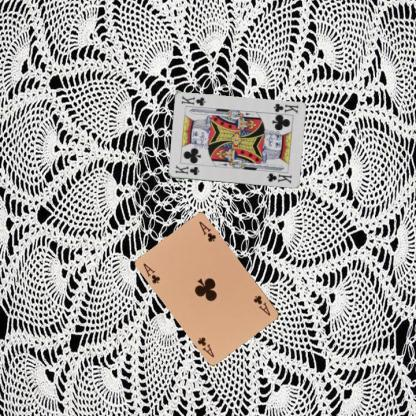Ac: (141, 260, 162, 286), (251, 292, 272, 317)
Kc: (271, 101, 299, 115), (173, 162, 200, 176)
